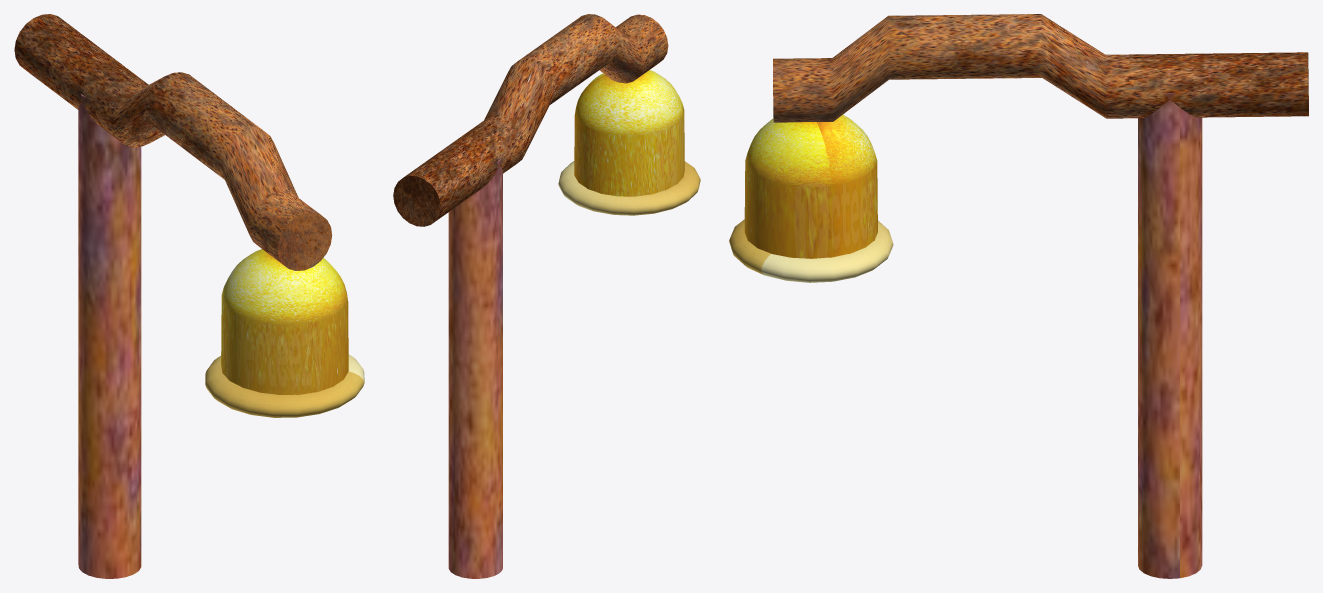
Rendered from David_bell.fbx.
3 views of the same model, side by side, from view 1: azimuth 30°, elevation 25°; view 2: azimuth 150°, elevation 25°; view 3: azimuth 270°, elevation 25° (orthographic). The views are drawn at different scales.
Parts seen in each view (by area): view 1: pCylinder10, pCylinder11, pSphere2; view 2: pCylinder10, pCylinder11, pSphere2; view 3: pCylinder11, pCylinder10, pSphere2.
Part boxes in pixels (x1=…): pCylinder10: x1=78, y1=93, x2=141, y2=578; pCylinder11: x1=14, y1=14, x2=332, y2=270; pSphere2: x1=205, y1=249, x2=364, y2=417; pCylinder10: x1=448, y1=158, x2=502, y2=578; pCylinder11: x1=393, y1=14, x2=668, y2=226; pSphere2: x1=558, y1=70, x2=700, y2=215; pCylinder11: x1=773, y1=14, x2=1308, y2=122; pCylinder10: x1=1138, y1=93, x2=1202, y2=578; pSphere2: x1=729, y1=115, x2=893, y2=282.
Size of the model in its own units: 0.6208 by 2.26 by 2.17.
Materials: 4 (4 with a texture image).
